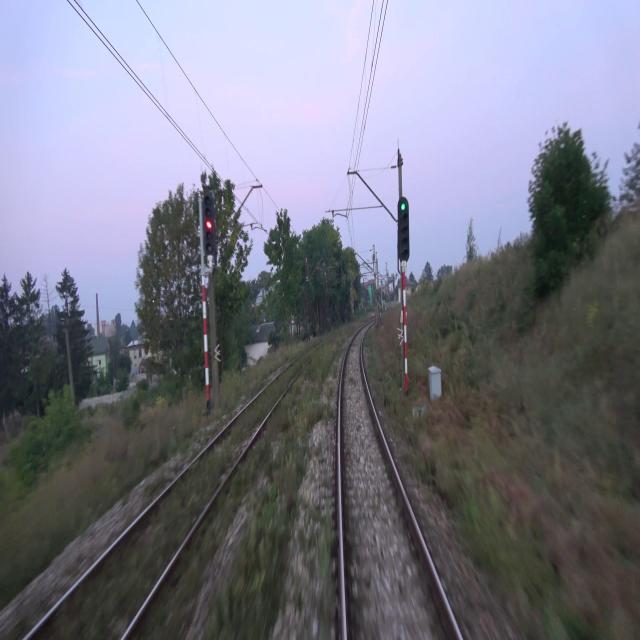rail-track: (30, 322, 362, 639), (340, 326, 457, 639)
